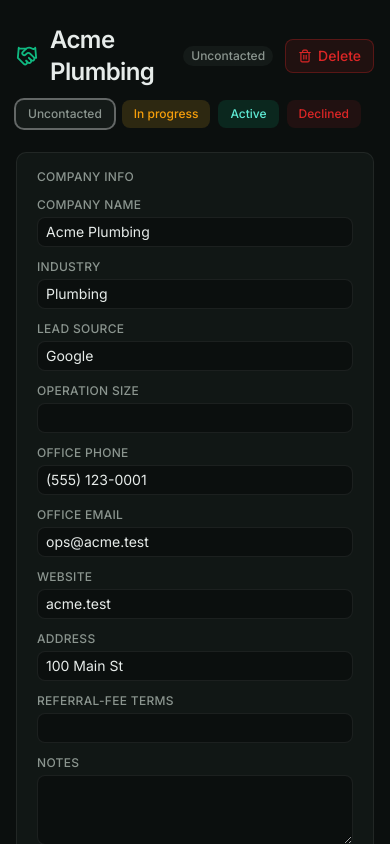
Test: ReferralPartnerWorksheet — header + Lifecycle status › clicking a flip button PATCHes the new Lifecycle status and updates the chip
Click the button with aria-label "set lifecycle status to active" at (248, 114), box top-left (218, 100), bottom-right (279, 128)
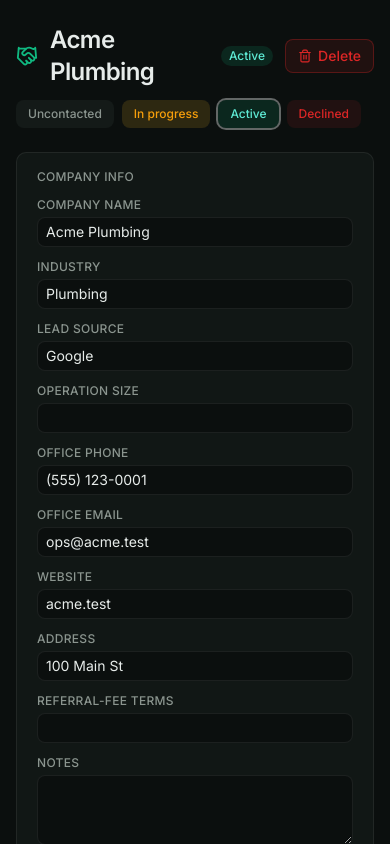
Now the text with test id "worksheet-lifecycle-status-chip" reads "Active", box top-left (229, 48), bottom-right (265, 63)
